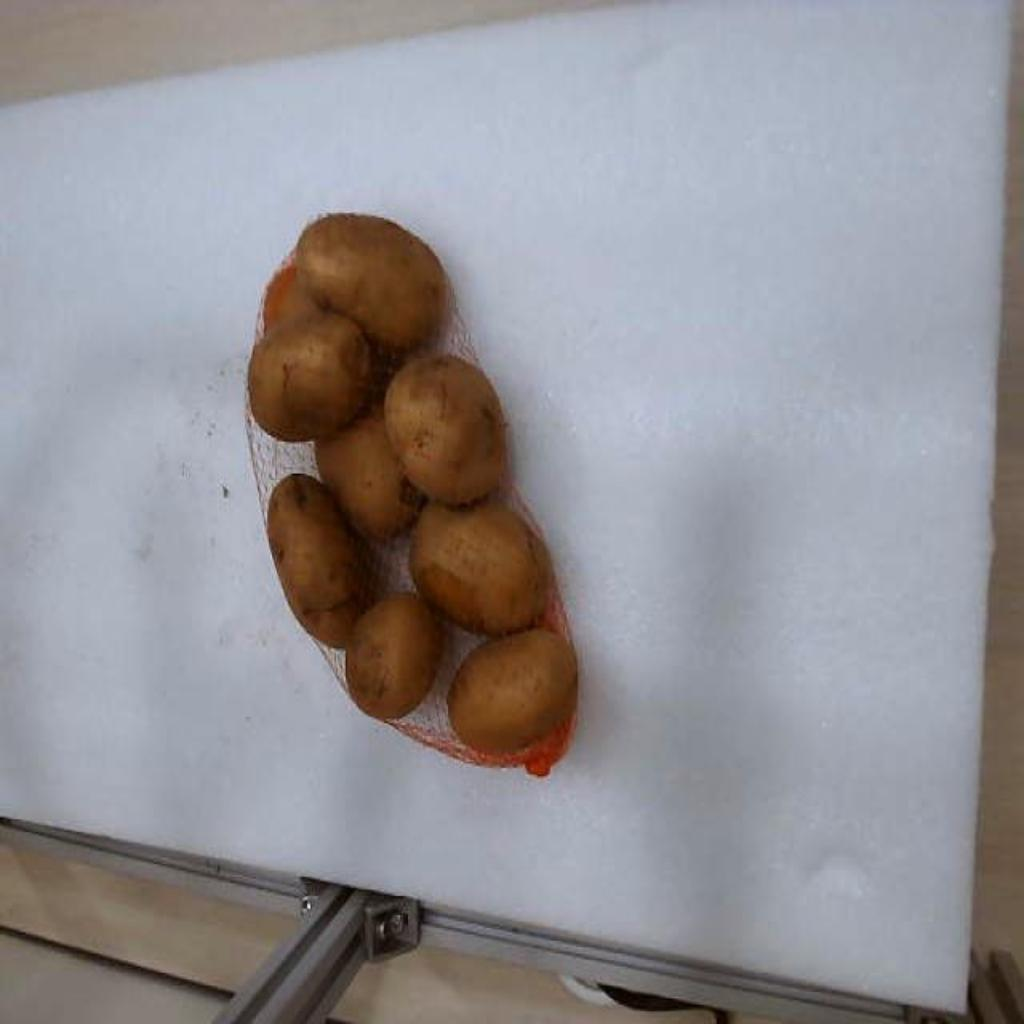potato: (296, 213, 446, 351), (410, 504, 552, 633), (384, 355, 506, 504), (268, 475, 368, 648), (448, 629, 578, 753), (248, 312, 372, 441), (316, 405, 424, 540), (346, 592, 442, 719), (264, 259, 320, 329)
